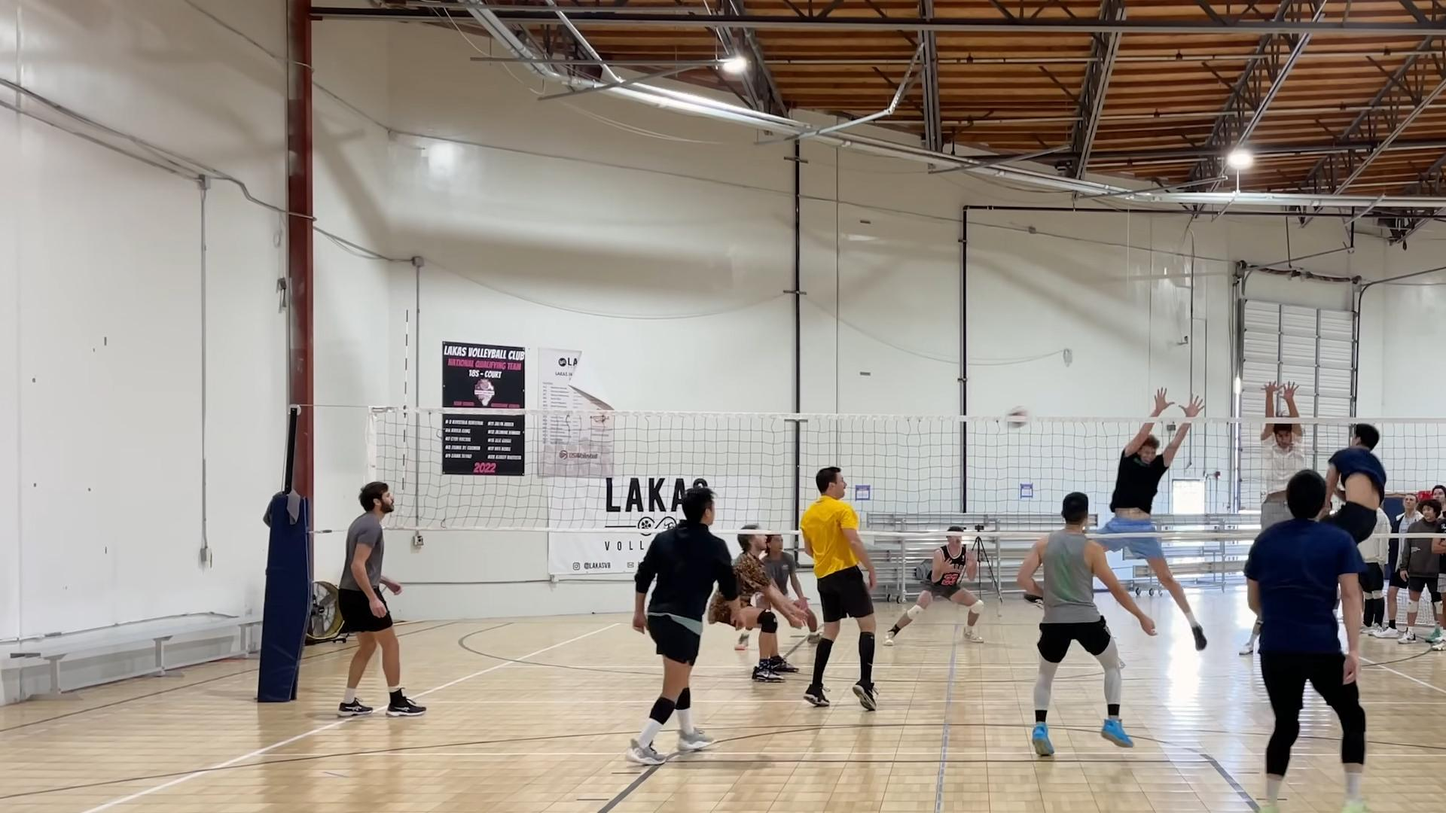Attack: (1313, 421, 1399, 551)
Block: (1105, 386, 1225, 655), (1256, 375, 1308, 531)
Player: (1245, 470, 1365, 812), (1017, 492, 1155, 755), (625, 486, 742, 764), (337, 482, 426, 716), (800, 467, 877, 711), (883, 525, 982, 645), (733, 534, 802, 682), (1260, 382, 1307, 530), (763, 534, 819, 643)
ball: (1005, 406, 1026, 427)
